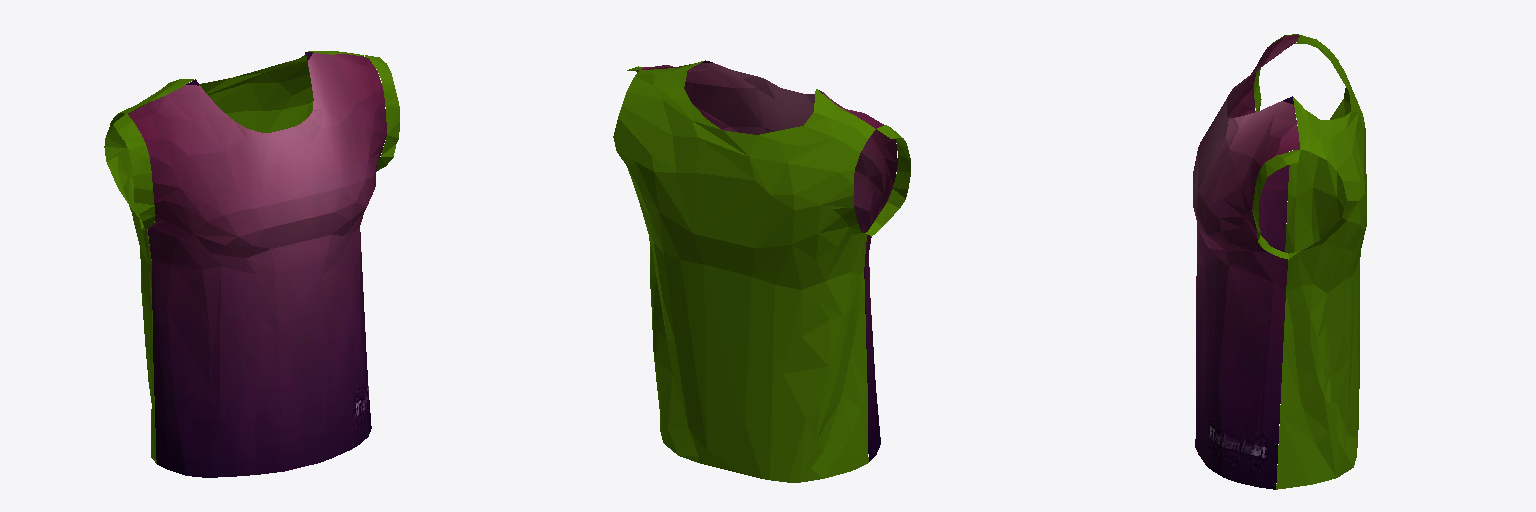
The picture shows the model from 3 angles: view 1: azimuth 30°, elevation 25°; view 2: azimuth 150°, elevation 25°; view 3: azimuth 270°, elevation 25°; orthographic projection.
Visible parts, largest first — view 1: T_shirt.006; view 2: T_shirt.006; view 3: T_shirt.006.
Part boxes in pixels (x1,y1,x2,y2): T_shirt.006: (104, 51, 399, 477); T_shirt.006: (613, 60, 910, 482); T_shirt.006: (1193, 34, 1366, 489).
Size of the model in its own units: 0.2935 by 0.3892 by 0.1639.
Materials: 2 (1 with a texture image).